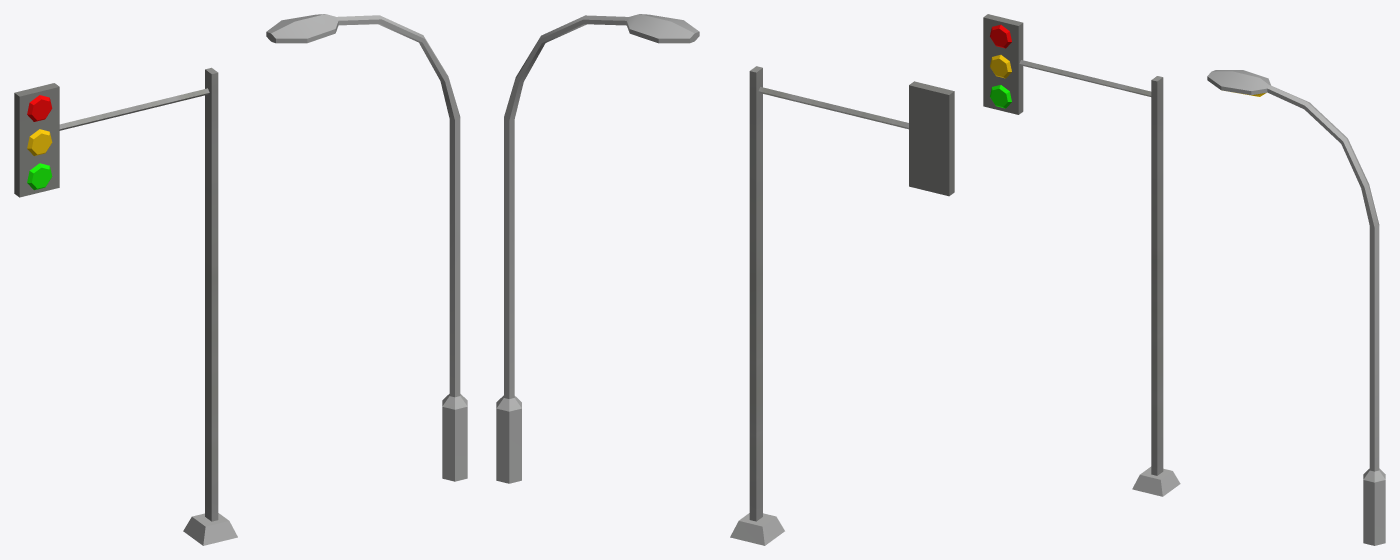
The model's file is signal trafficLight_01.fbx.
3 renders of one model, left to right at view 1: azimuth 30°, elevation 25°; view 2: azimuth 150°, elevation 25°; view 3: azimuth 330°, elevation 25°, orthographic. The views are drawn at different scales.
Parts seen in each view (by area): view 1: trafficLight_01template, lighttemplate; view 2: trafficLight_01template, lighttemplate; view 3: trafficLight_01template, lighttemplate.
Part boxes in pixels (x1,y1,x2,y2): trafficLight_01template: (14, 67, 237, 545); lighttemplate: (266, 14, 467, 481); trafficLight_01template: (730, 66, 954, 545); lighttemplate: (496, 14, 699, 483); trafficLight_01template: (983, 14, 1180, 496); lighttemplate: (1207, 70, 1385, 545).
Bounding box in the file's own units: 780 × 813 × 75.44.
